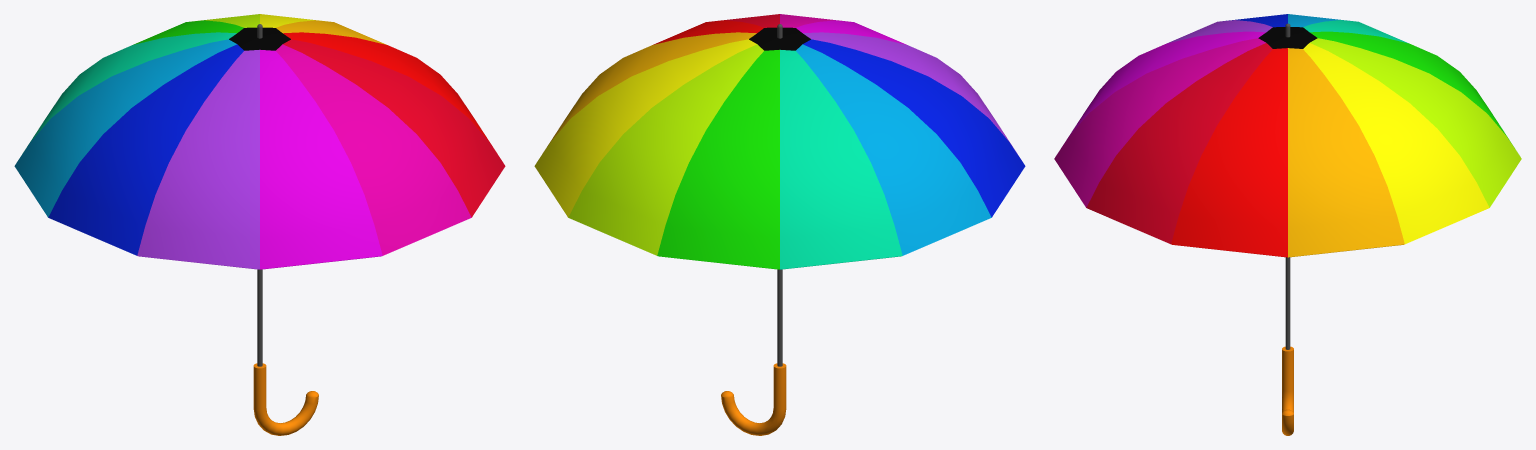
File: Paraguas.fbx
The picture shows the model from 3 angles, left to right: view 1: azimuth 30°, elevation 25°; view 2: azimuth 150°, elevation 25°; view 3: azimuth 270°, elevation 25°; orthographic projection. The views are drawn at different scales.
Visible parts, largest first — view 1: Impermeable, Palo; view 2: Impermeable, Palo; view 3: Impermeable, Palo.
Part boxes in pixels (box(x1,y1,x2,y2)): Impermeable: box(14, 14, 505, 269); Palo: box(253, 24, 318, 435); Impermeable: box(534, 14, 1025, 269); Palo: box(721, 24, 786, 435); Impermeable: box(1054, 14, 1521, 257); Palo: box(1282, 23, 1293, 435).
Size of the model in its own units: 166 by 156 by 167.
